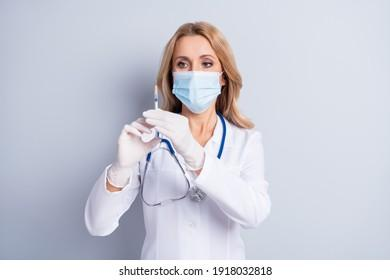gloves: (106, 115, 162, 190), (144, 107, 206, 172)
